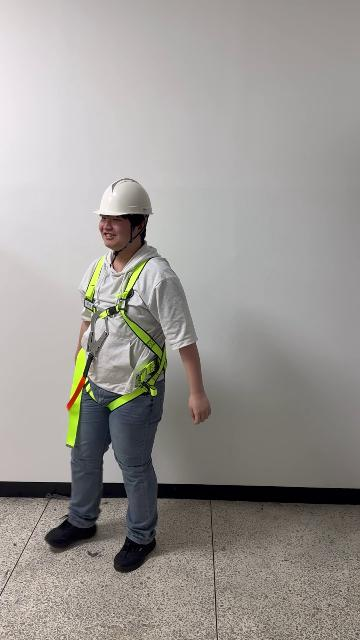helmet_worn: (92, 177, 155, 216)
shoe_not_worn: (112, 535, 156, 572), (44, 518, 96, 548)
vest_worn: (65, 260, 165, 439)
